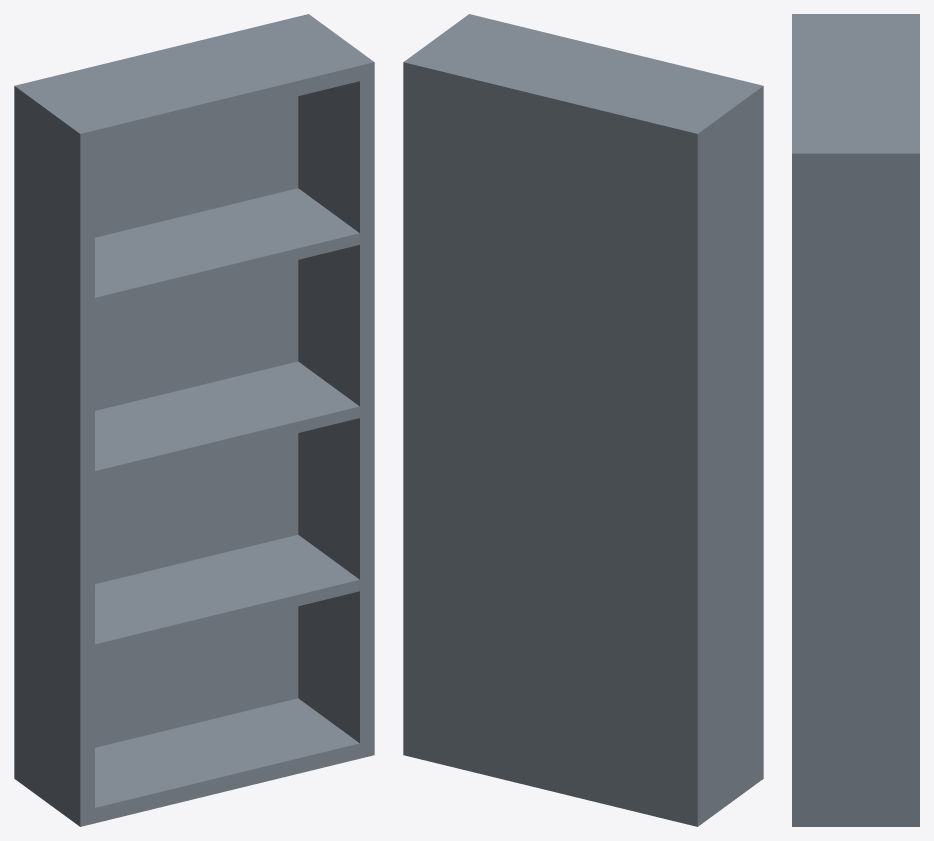
The model's file is bookshelf.glb.
3 renders of one model, left to right at view 1: azimuth 30°, elevation 25°; view 2: azimuth 150°, elevation 25°; view 3: azimuth 270°, elevation 25°, orthographic. The views are drawn at different scales.
Visible parts, largest first — view 1: bookshelf; view 2: bookshelf; view 3: bookshelf.
Part boxes in pixels (bbox=[...]): bookshelf: bbox=[14, 14, 374, 826]; bookshelf: bbox=[403, 14, 763, 826]; bookshelf: bbox=[792, 14, 919, 826].
Bounding box in the file's own units: 0.8 × 1.8 × 0.31.
